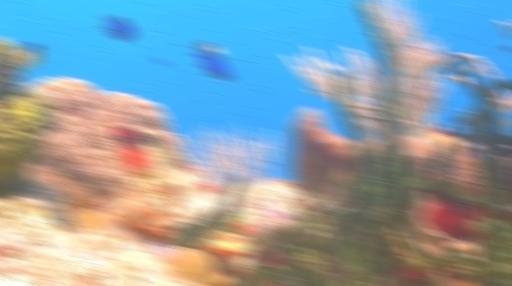Fish: (189, 42, 232, 80), (97, 15, 136, 41), (18, 41, 41, 69), (306, 88, 325, 97), (151, 57, 170, 65)
